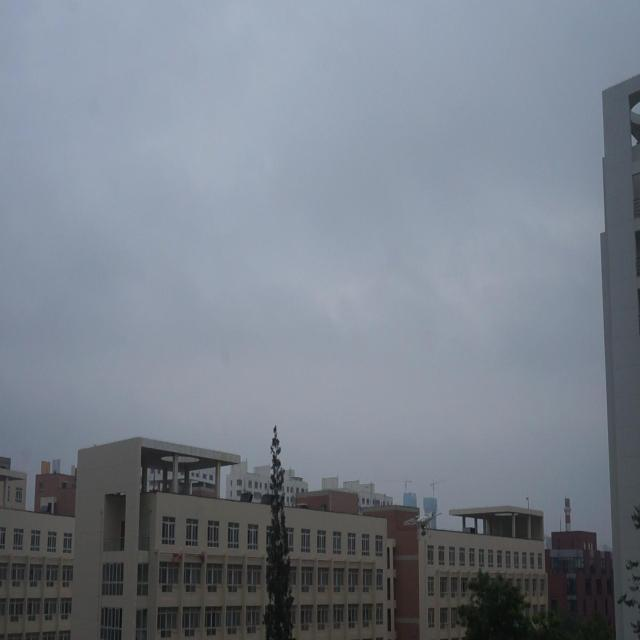drone: (404, 507, 439, 538)
